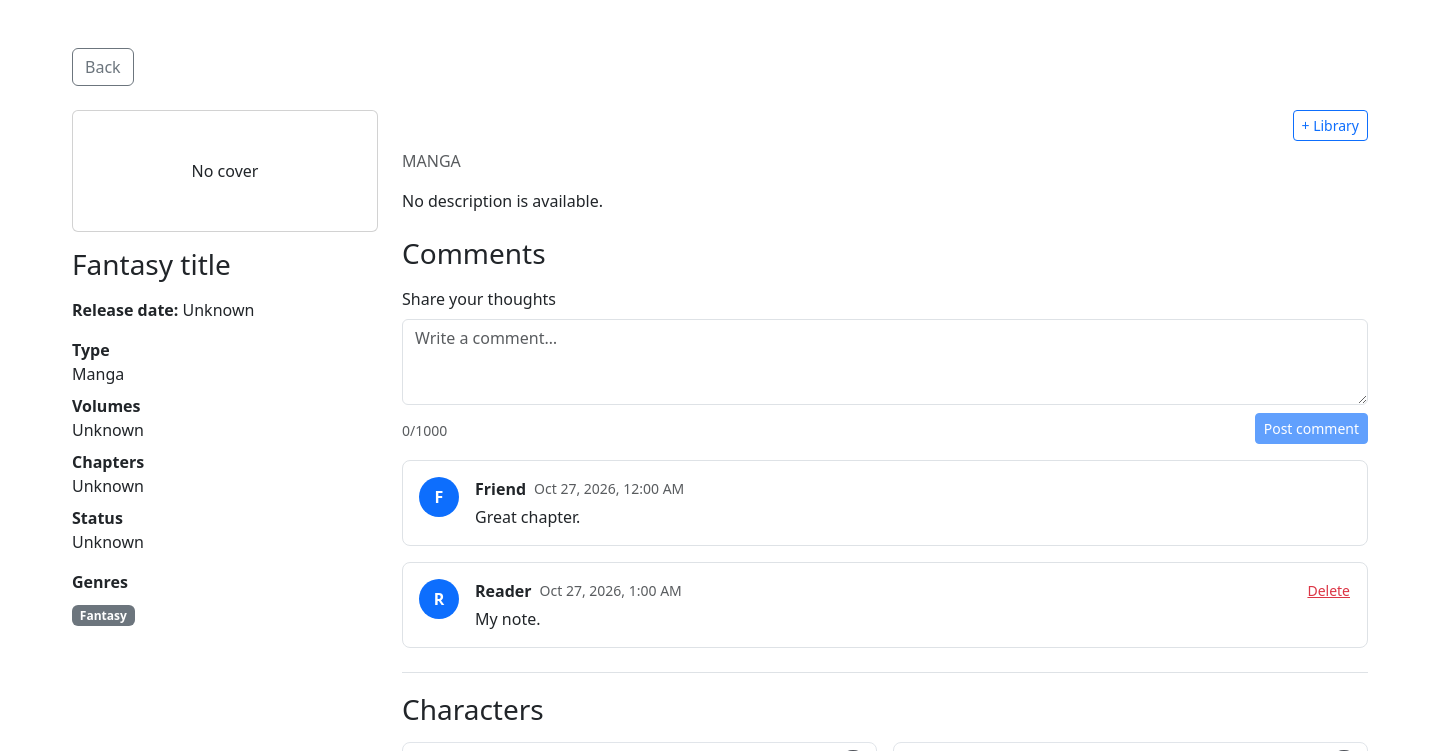
it: AniListMangaDetailsPage › shows manga comments with links to the authors public profiles and only lets the author delete their own
Expected: the number of buttons "Delete" is 1, [1306,579,1351,602]
Type "A new thought" into the text box labelled "Share your thoughts". click: (885, 362)
box: [402,319,1368,405]
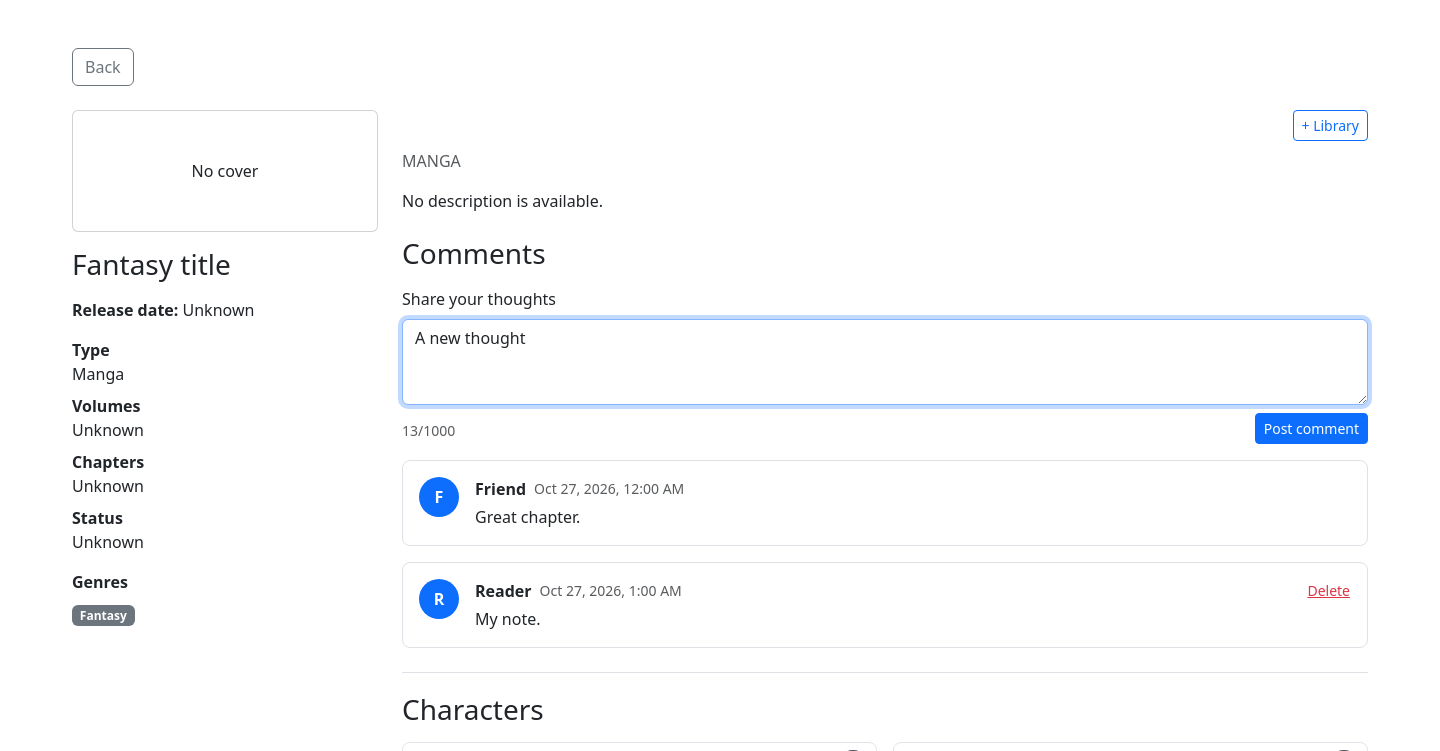
Press Enter
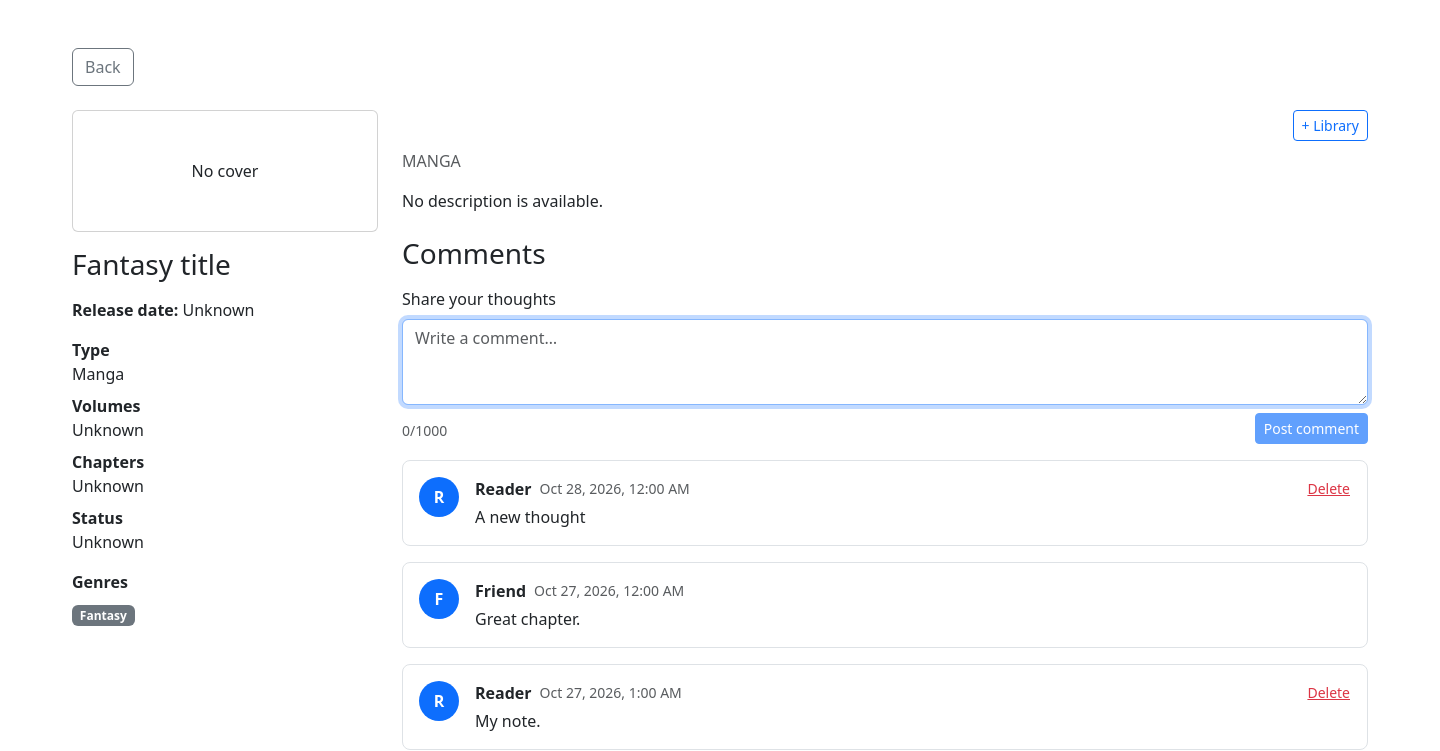
Now the text "A new thought" is shown, box [475,506,586,528]
